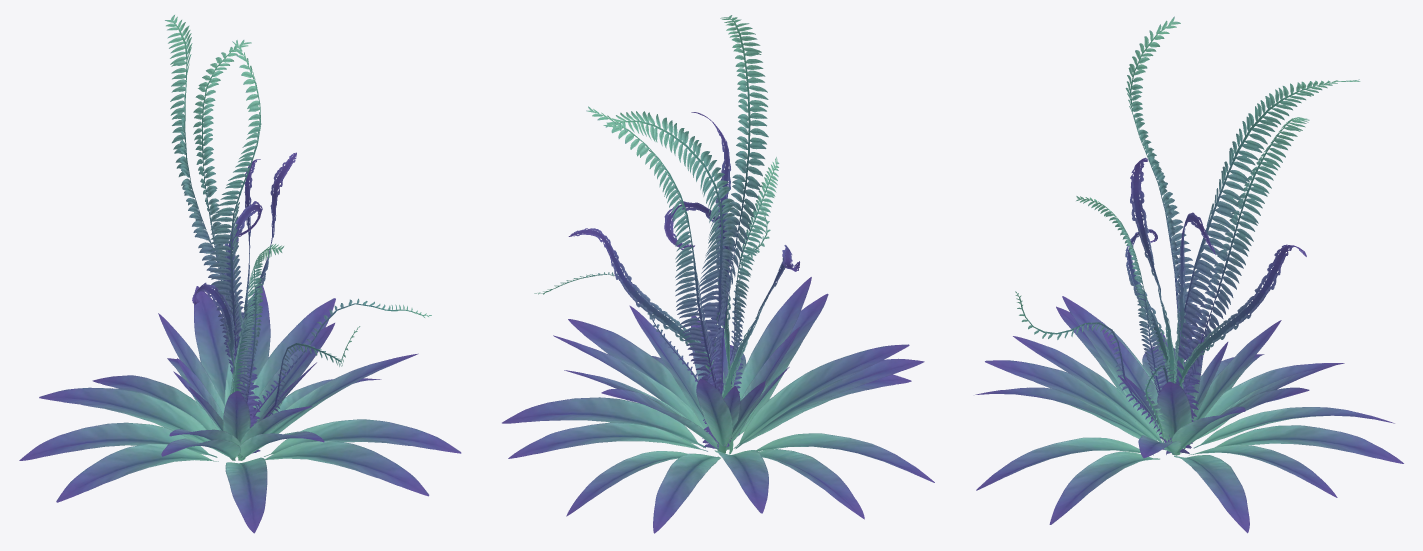
3 views of the same model, side by side, from view 1: azimuth 30°, elevation 25°; view 2: azimuth 150°, elevation 25°; view 3: azimuth 270°, elevation 25° (orthographic). The views are drawn at different scales.
Parts seen in each view (by area): view 1: SM_FH_SwampFern_03_LOD0; view 2: SM_FH_SwampFern_03_LOD0; view 3: SM_FH_SwampFern_03_LOD0.
Part boxes in pixels (left/top/right/bottom): SM_FH_SwampFern_03_LOD0: left=19, top=15, right=461, bottom=533; SM_FH_SwampFern_03_LOD0: left=502, top=15, right=934, bottom=533; SM_FH_SwampFern_03_LOD0: left=975, top=16, right=1403, bottom=533.
Bounding box in the file's own units: 1.35 × 1.41 × 1.28.
Materials: 1 (1 with a texture image).
